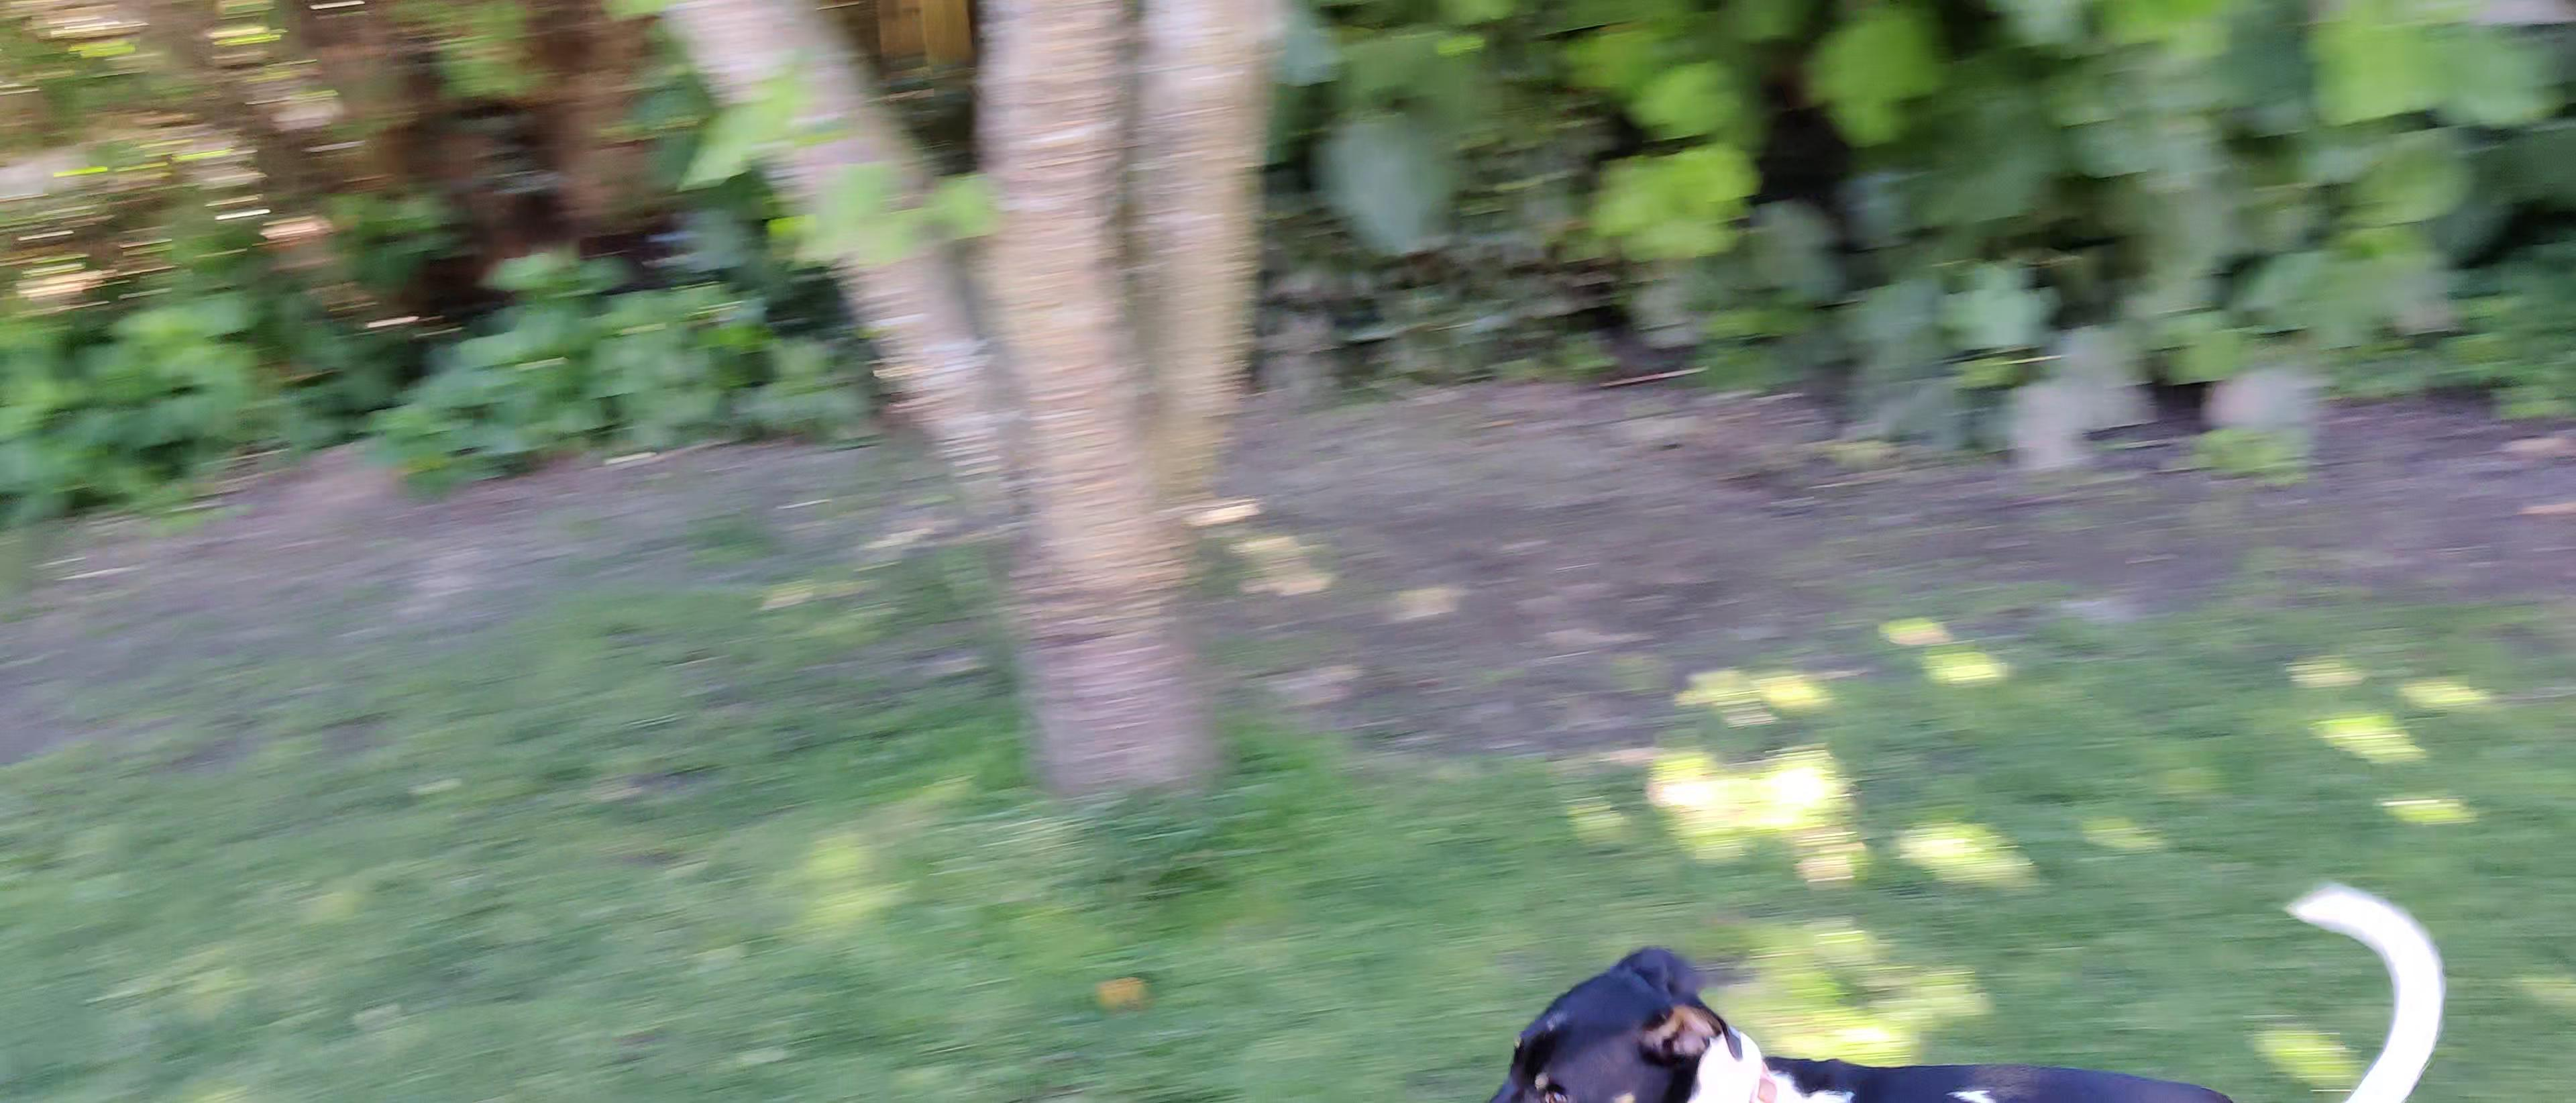Dog: (1470, 875, 2461, 1101)
